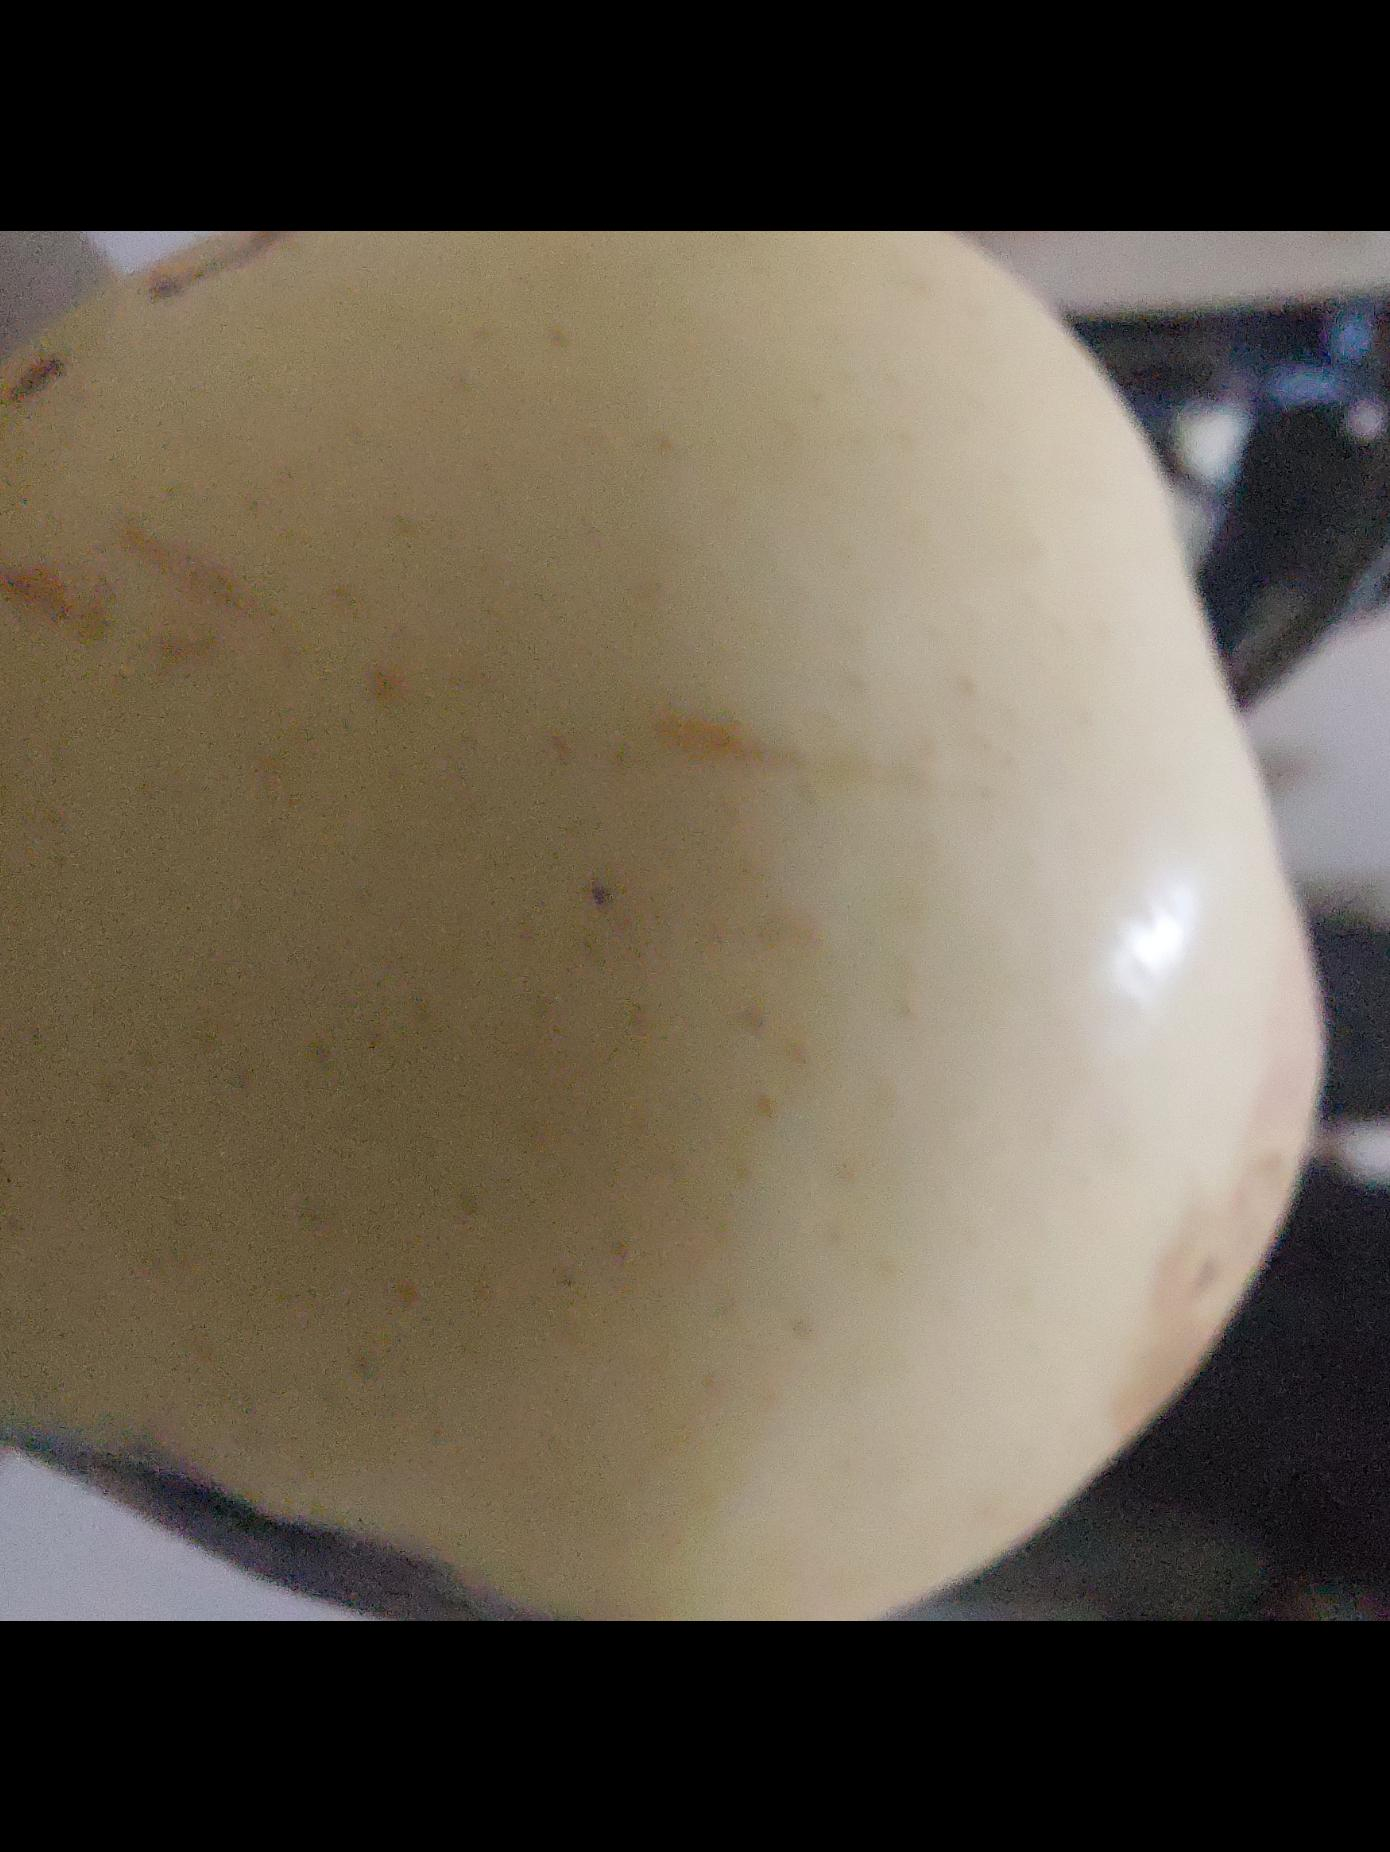Bad Pear: (0, 231, 1359, 1621)
